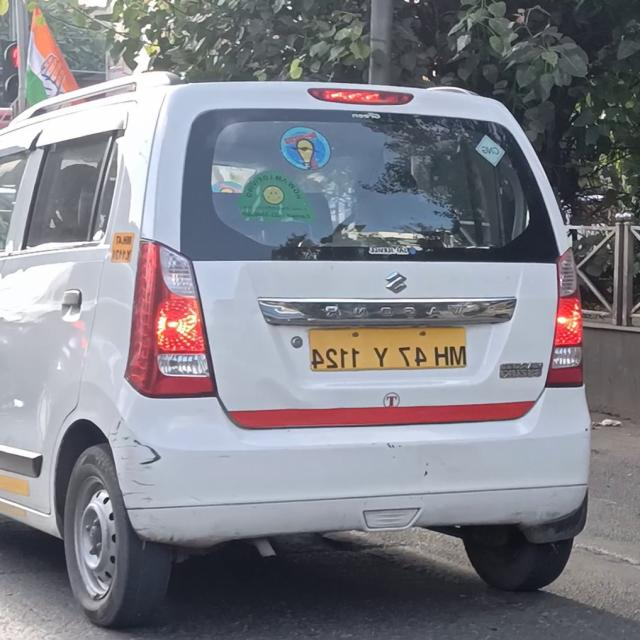license_plate: (300, 318, 475, 382)
